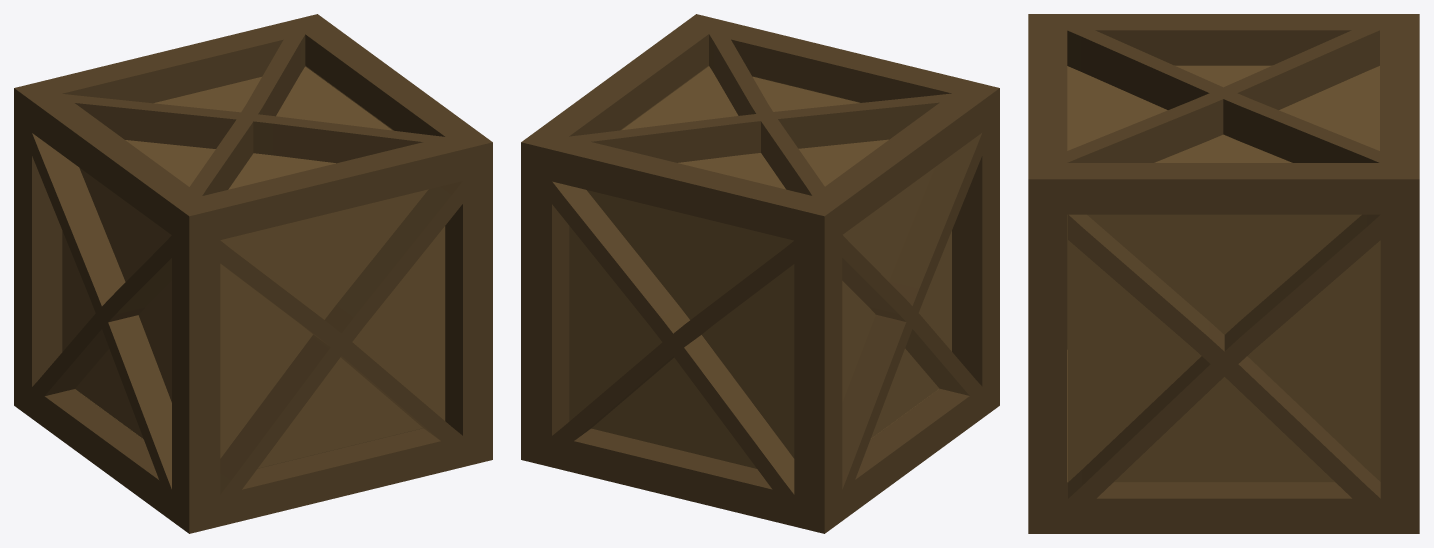
File: WoodBlock.obj
3 views of the same model, side by side, from view 1: azimuth 30°, elevation 25°; view 2: azimuth 150°, elevation 25°; view 3: azimuth 270°, elevation 25° (orthographic). The views are drawn at different scales.
Visible parts, largest first — view 1: WoodBlock_Cube; view 2: WoodBlock_Cube; view 3: WoodBlock_Cube.
Boxes of the visible parts, x1=… form: WoodBlock_Cube: x1=14, y1=14, x2=492, y2=533; WoodBlock_Cube: x1=521, y1=14, x2=999, y2=533; WoodBlock_Cube: x1=1028, y1=14, x2=1419, y2=533.
Bounding box in the file's own units: 2 × 2 × 2.
